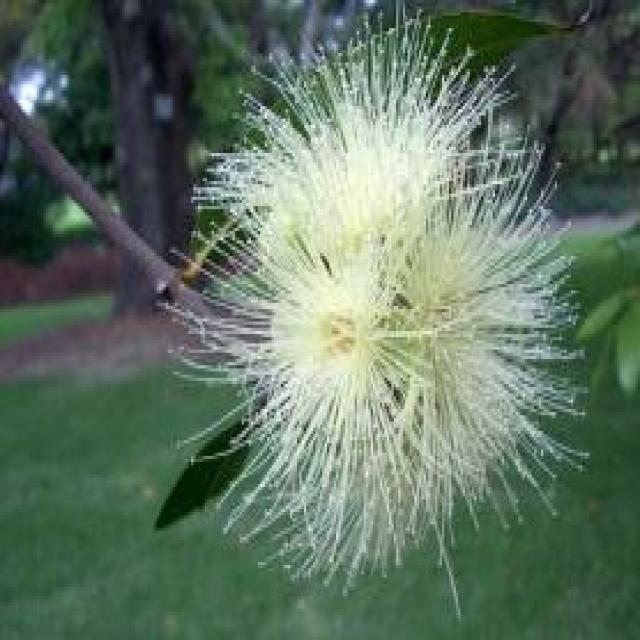Medicinal-Rose Apple: (130, 0, 640, 600)
